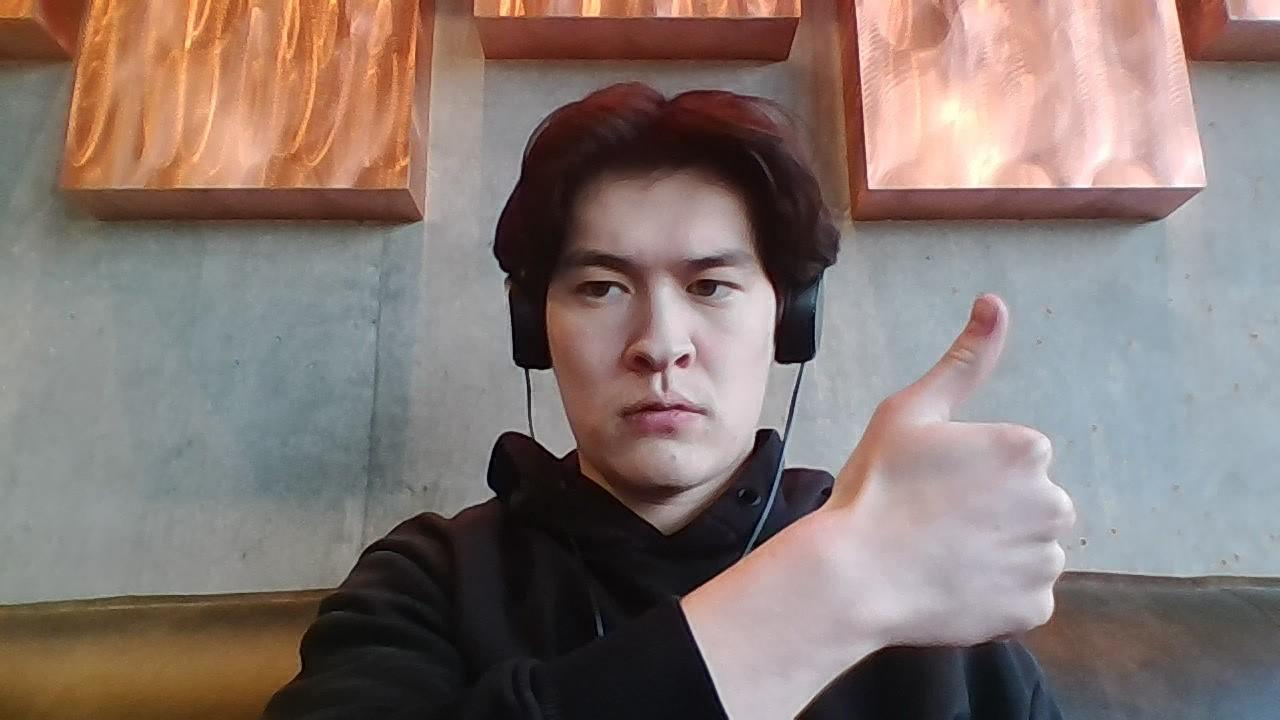thumbsUp: (833, 291, 1079, 650)
